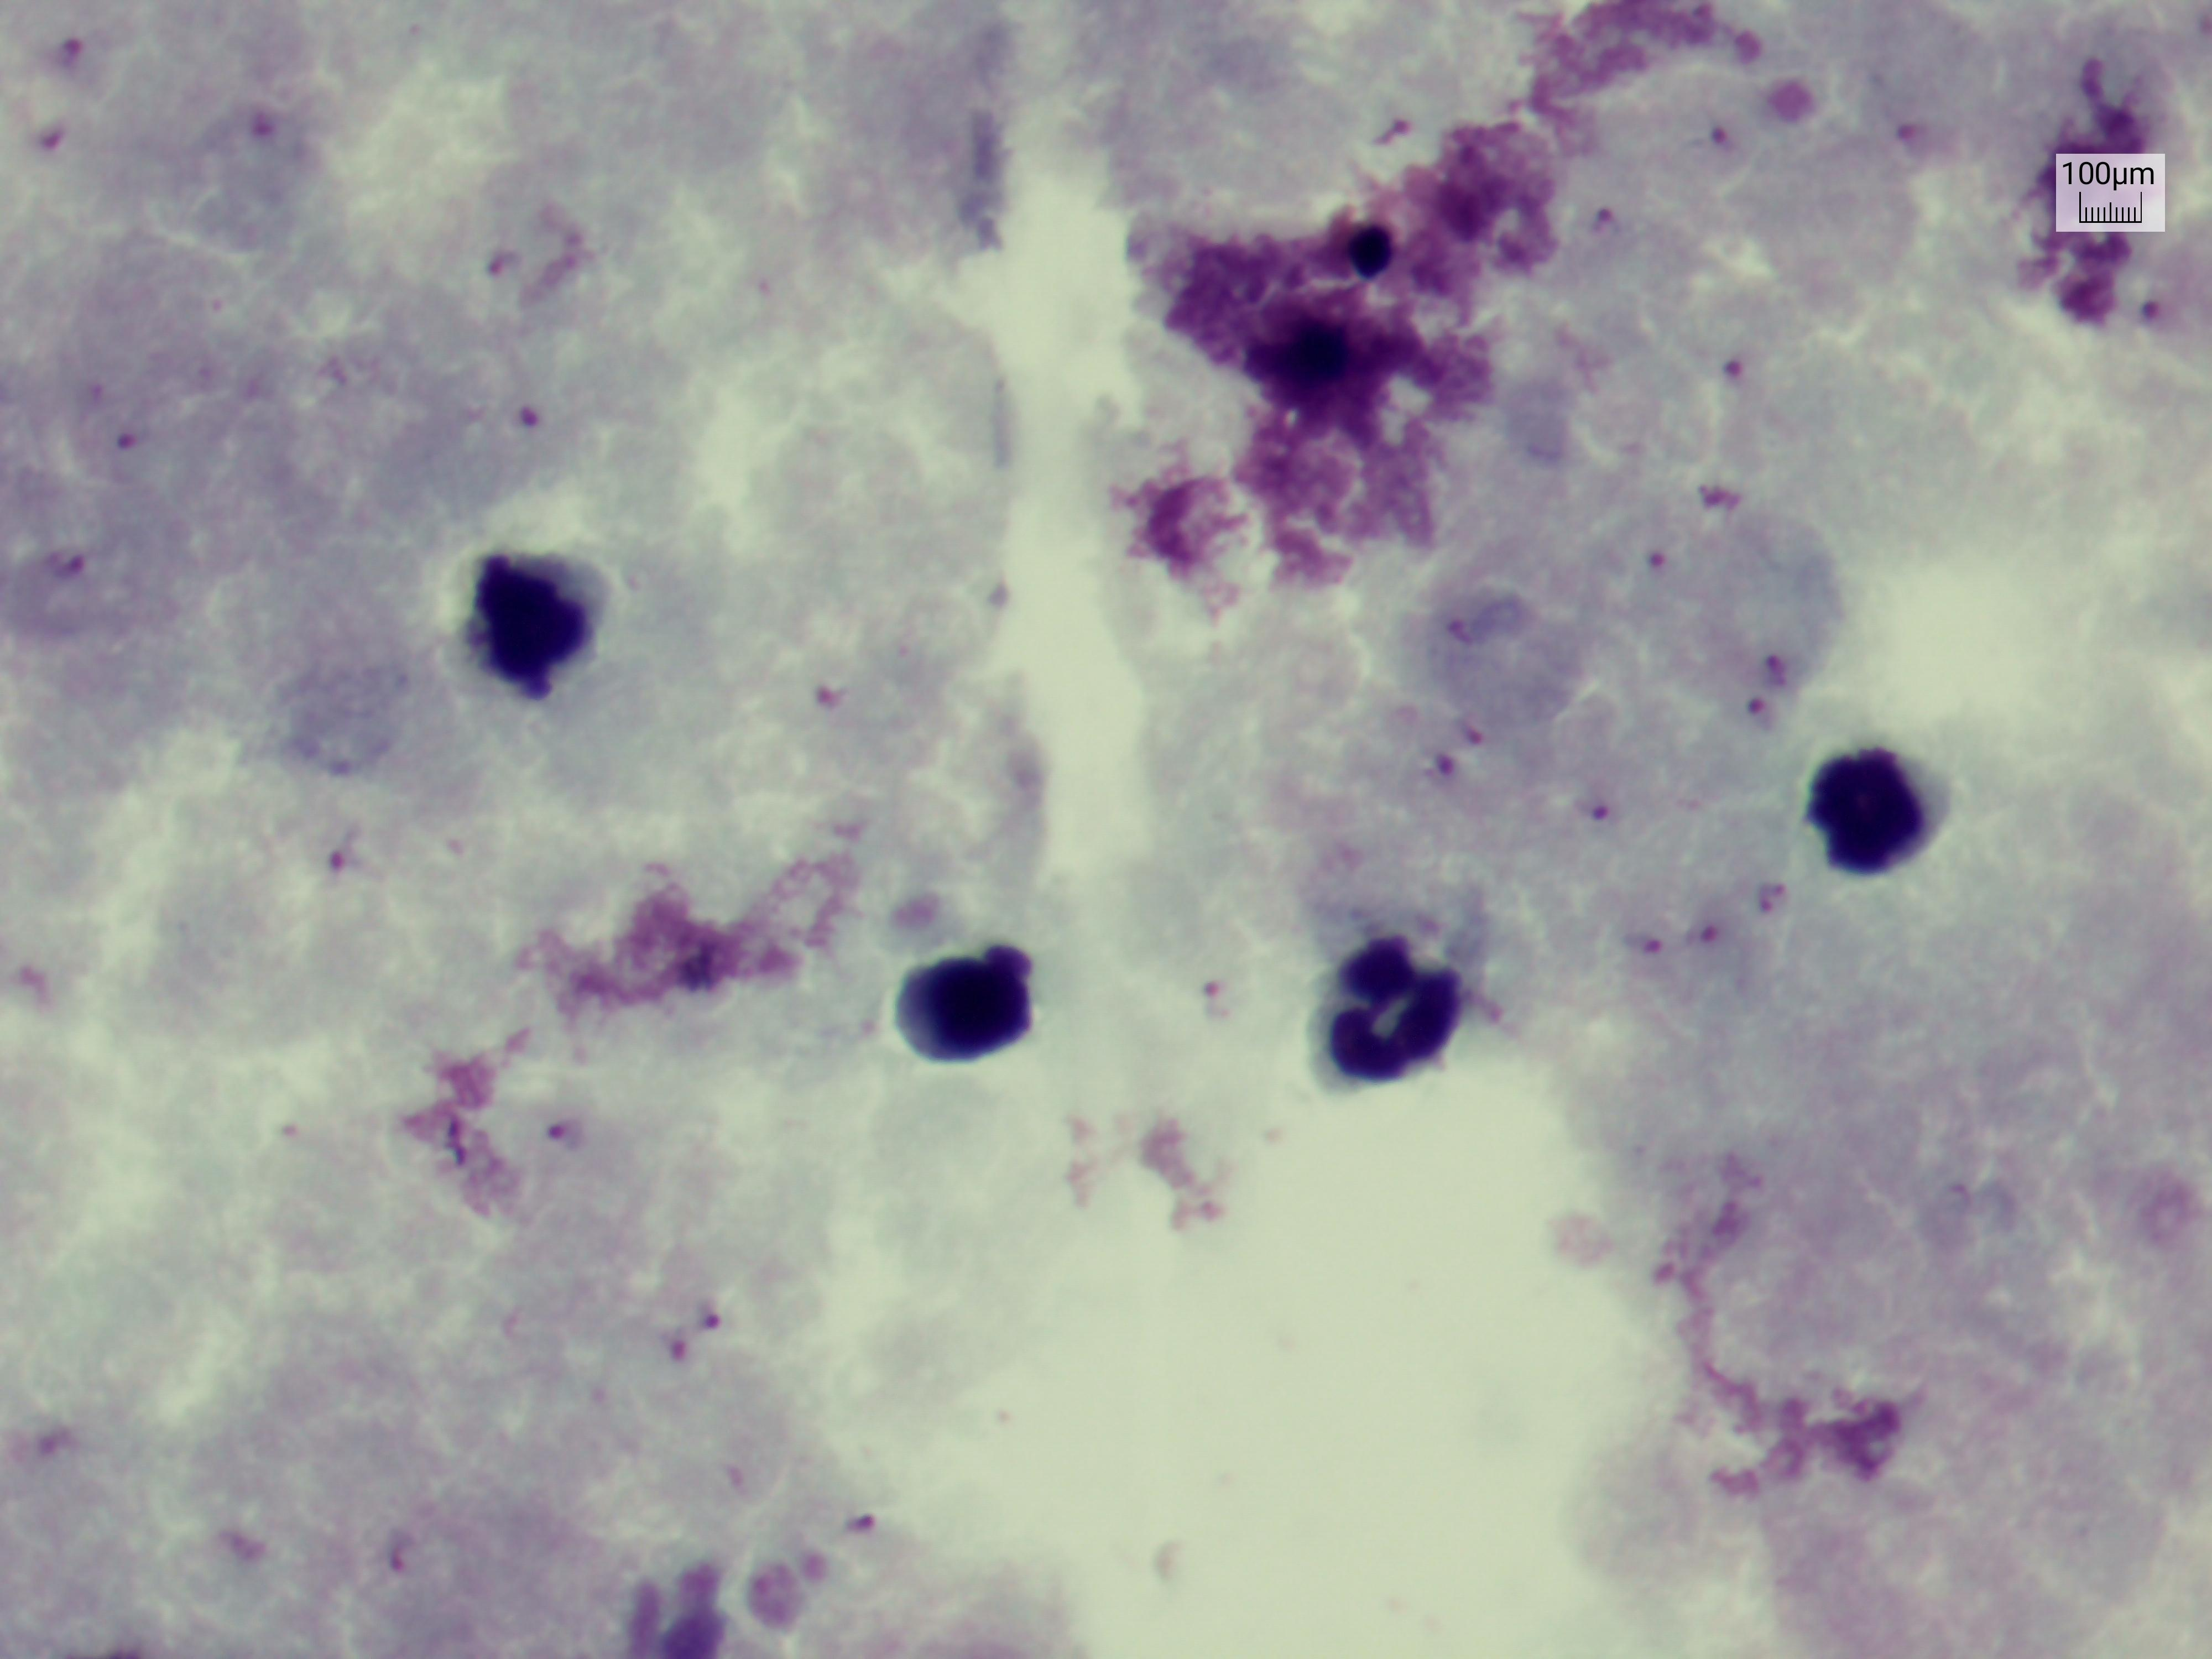p.falciparum: (56, 352, 183, 521), (1618, 863, 1799, 978), (472, 368, 582, 453), (1416, 681, 1496, 798), (1881, 87, 1973, 179), (301, 814, 395, 903), (1726, 622, 1801, 732), (1700, 329, 1780, 418), (1425, 573, 1501, 664), (10, 99, 92, 179), (1355, 84, 1426, 166), (448, 221, 519, 300), (834, 1485, 900, 1568), (218, 99, 305, 159), (787, 653, 852, 730), (519, 1093, 592, 1154), (1581, 769, 1625, 863), (1183, 938, 1231, 1021), (1637, 509, 1683, 598), (2128, 272, 2177, 352), (1581, 186, 1630, 263), (33, 535, 105, 586), (1693, 98, 1747, 159), (44, 19, 92, 85), (674, 1297, 740, 1342)
